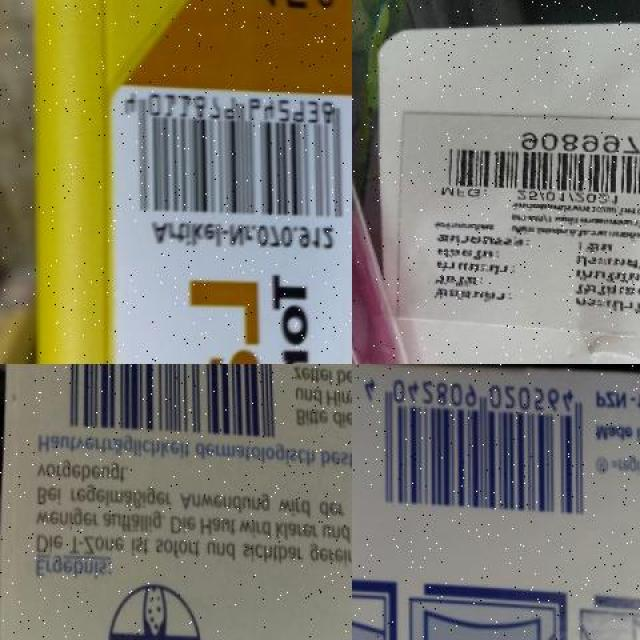Barcode: (357, 364, 594, 524), (116, 82, 352, 226), (42, 364, 278, 440), (432, 123, 640, 200)
